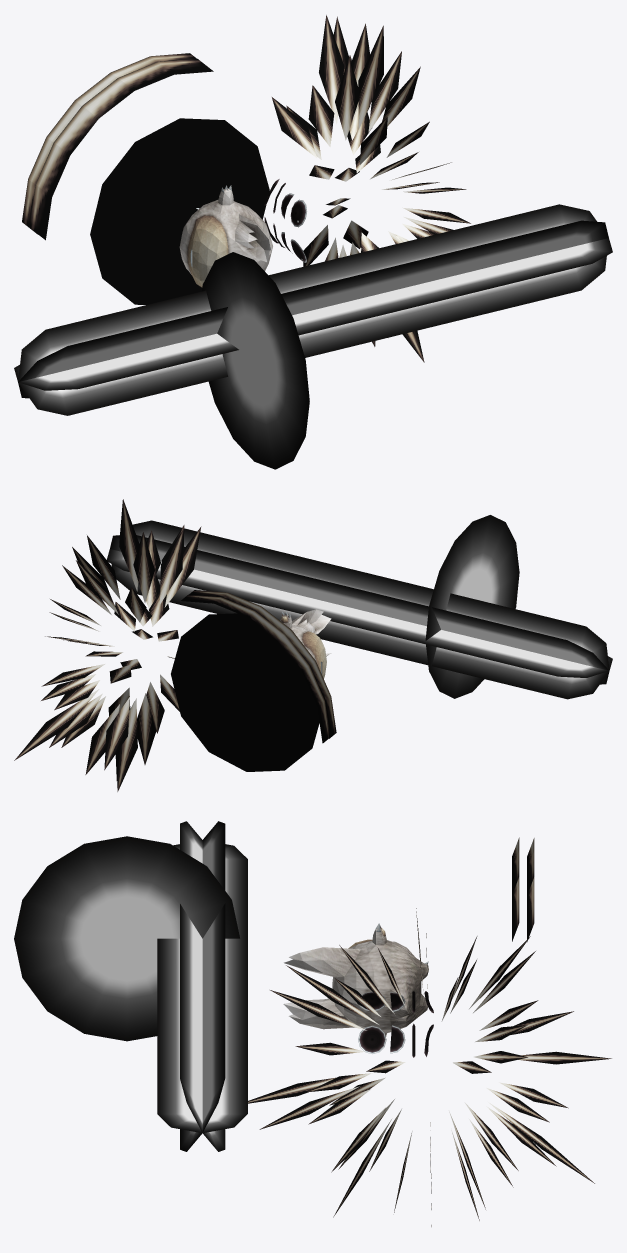
The picture shows the model from 3 angles, top to bottom: view 1: azimuth 30°, elevation 25°; view 2: azimuth 150°, elevation 25°; view 3: azimuth 270°, elevation 25°; orthographic projection. The views are drawn at different scales.
Parts seen in each view (by area): view 1: M_0021_1, M_0021_0; view 2: M_0021_1, M_0021_0; view 3: M_0021_1, M_0021_0.
Part boxes in pixels (<box>): M_0021_1: <box>14,15,612,469</box>; M_0021_0: <box>90,118,306,304</box>; M_0021_1: <box>14,499,612,791</box>; M_0021_0: <box>171,609,331,771</box>; M_0021_1: <box>14,821,611,1226</box>; M_0021_0: <box>283,923,433,1057</box>.
Bounding box in the file's own units: 8.28 × 4.4 × 7.15.
2 materials, 2 textured.
